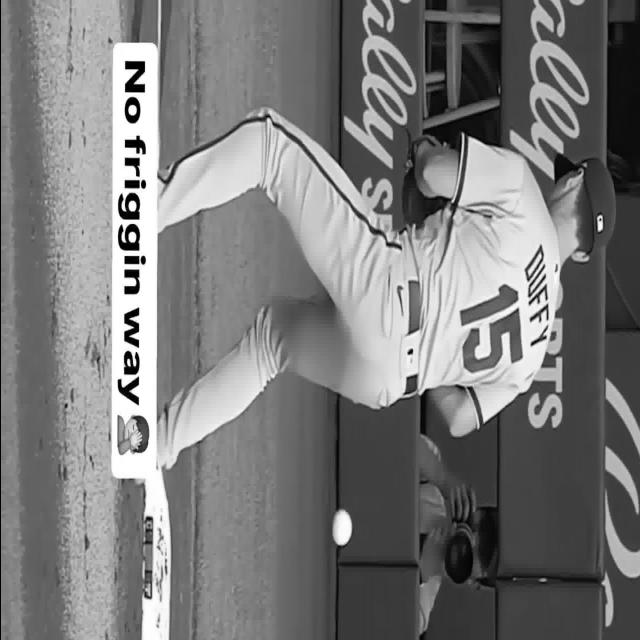base: (141, 469, 170, 640)
baseball: (331, 509, 351, 547)
baseball_glove: (401, 169, 446, 227)
